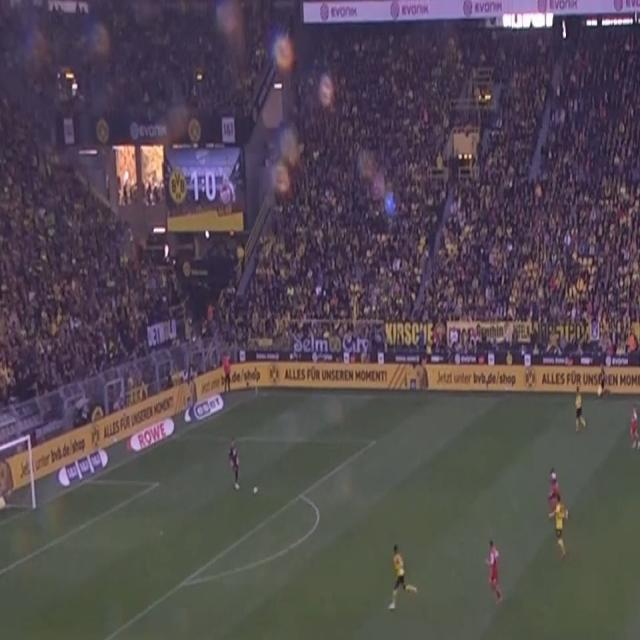ball: (252, 483, 258, 496)
